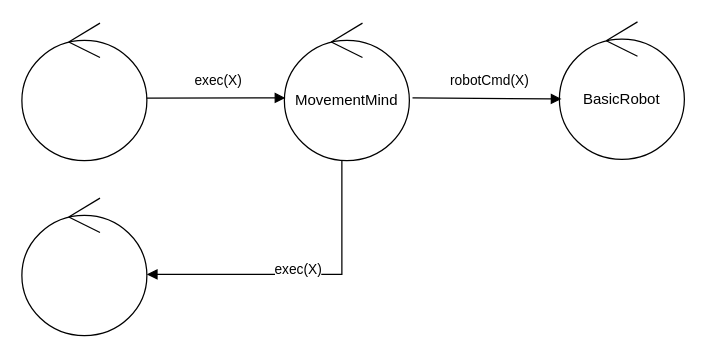
The diagram is 706 pixels wide and 358 high, and some of its shapes have lost their labels. The shapes that lost their labels are listed below. From the top down, each one's centre as x and y in pixels, then its label:
the point at 84,91: ExecRoute
the point at 84,266: Butler
